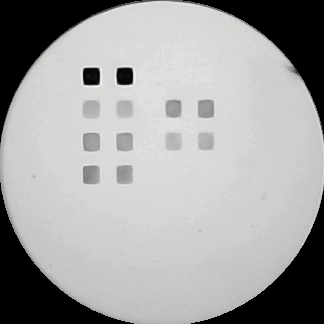检查点: (195, 96, 219, 120), (81, 130, 104, 155), (194, 130, 218, 152), (116, 163, 137, 188), (80, 164, 102, 186), (81, 98, 102, 121), (81, 66, 102, 88), (163, 130, 184, 152), (163, 99, 184, 121), (115, 97, 135, 120), (115, 66, 136, 87), (115, 131, 135, 153)
